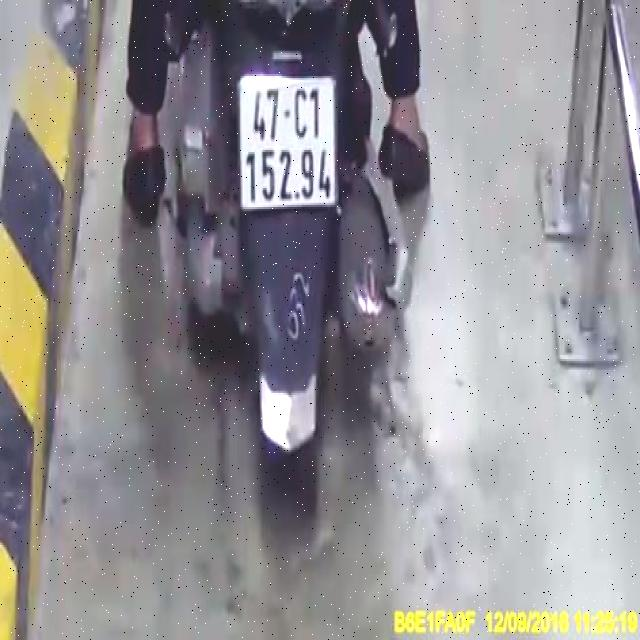1: (243, 150, 260, 206), (308, 88, 322, 142)
2: (278, 144, 293, 201)
4: (250, 91, 267, 141), (318, 147, 331, 201)
5: (260, 146, 276, 204)
7: (267, 86, 281, 140)
9: (302, 148, 314, 201)
C: (294, 88, 309, 143)
